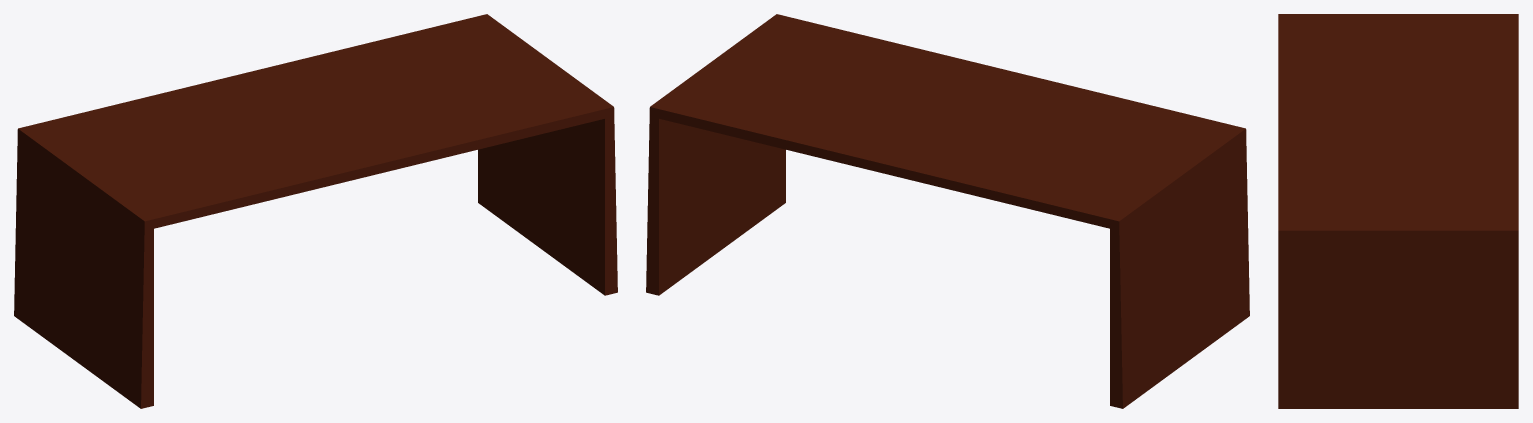
Rendered from office_table.FBX.
3 renders of one model, left to right at view 1: azimuth 30°, elevation 25°; view 2: azimuth 150°, elevation 25°; view 3: azimuth 270°, elevation 25°, orthographic. The views are drawn at different scales.
Parts seen in each view (by area): view 1: Box010; view 2: Box010; view 3: Box010.
Boxes of the visible parts, left/top/right/bottom form: Box010: left=14, top=14, right=617, bottom=408; Box010: left=646, top=14, right=1249, bottom=408; Box010: left=1278, top=14, right=1518, bottom=408.
Bounding box in the file's own units: 123 × 45.99 × 56.7.
